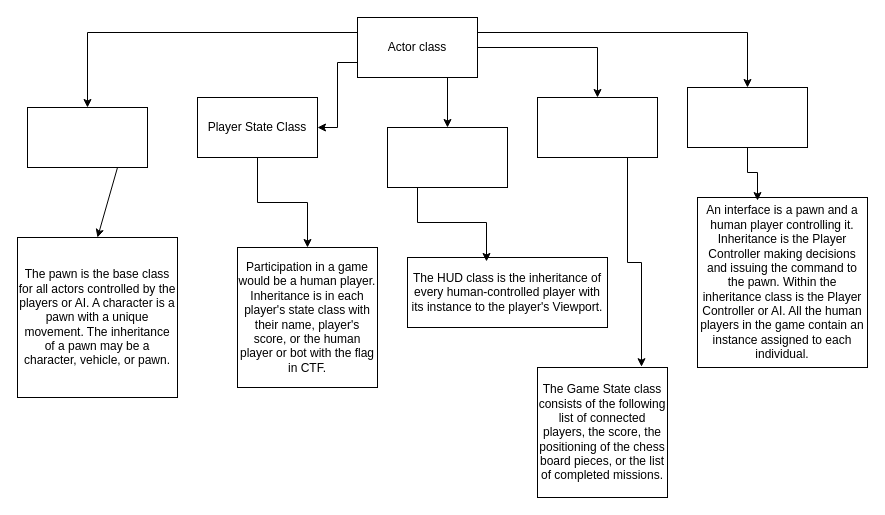
Some shapes in this 885 by 515 pixel diagram are drawn without their labels. The shapes that lost their labels are listed below. From the top down, each one's box as (x1, y1, x2, y2) in pixels, then its label:
(26, 106, 148, 168): Pawn Class
(536, 96, 658, 158): Game State Class
(686, 86, 808, 148): Player Controller Class
(386, 126, 508, 188): HUD Class
